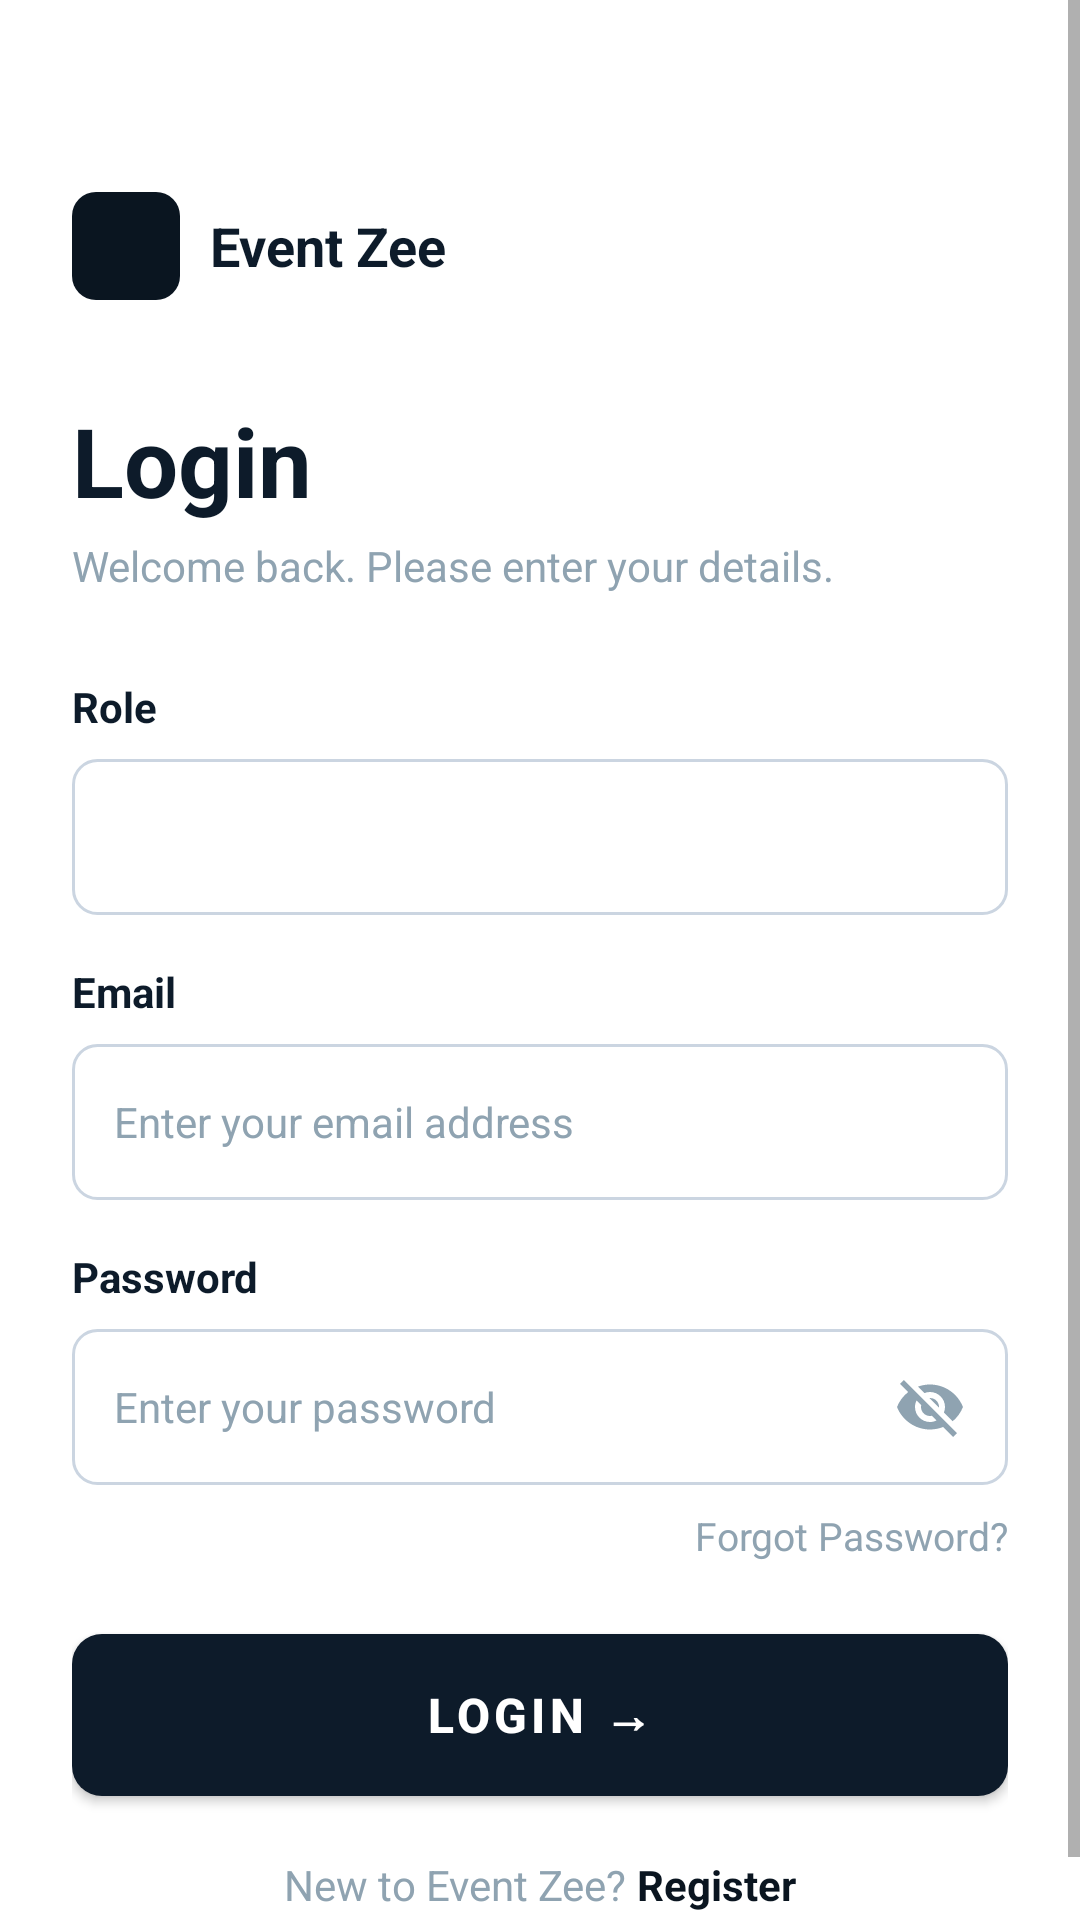

Locate icon controls on the screen. Image size 1080*1920, boxes as (x1, y1, x2, y2).
eye off: (897, 1380, 963, 1437)
